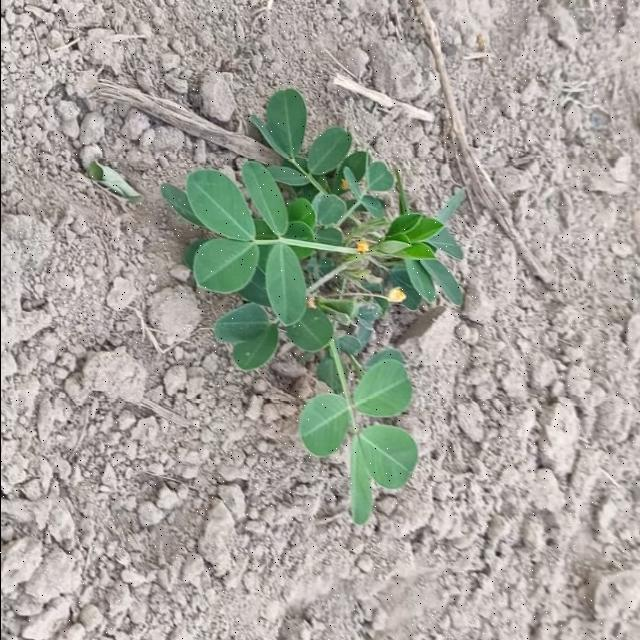plant: (161, 88, 461, 524)
